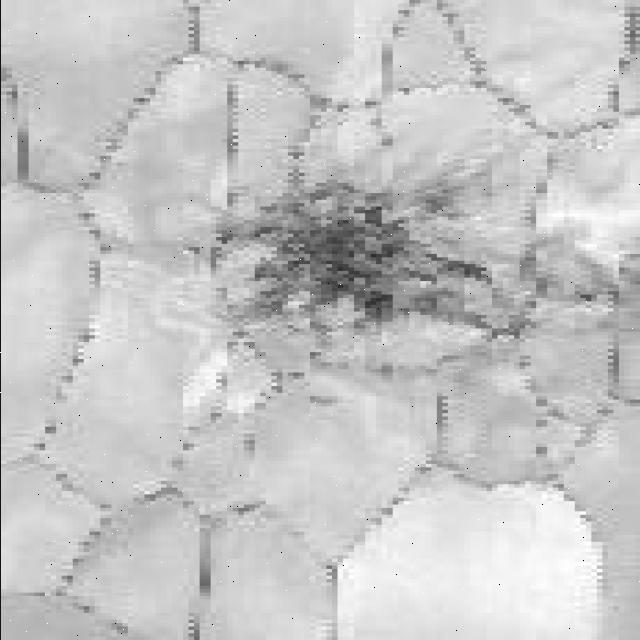good_void: (232, 179, 500, 339)
